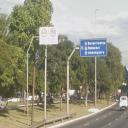speed_limit_50: (50, 28, 56, 37)
speed_limit_60: (41, 28, 47, 36)
